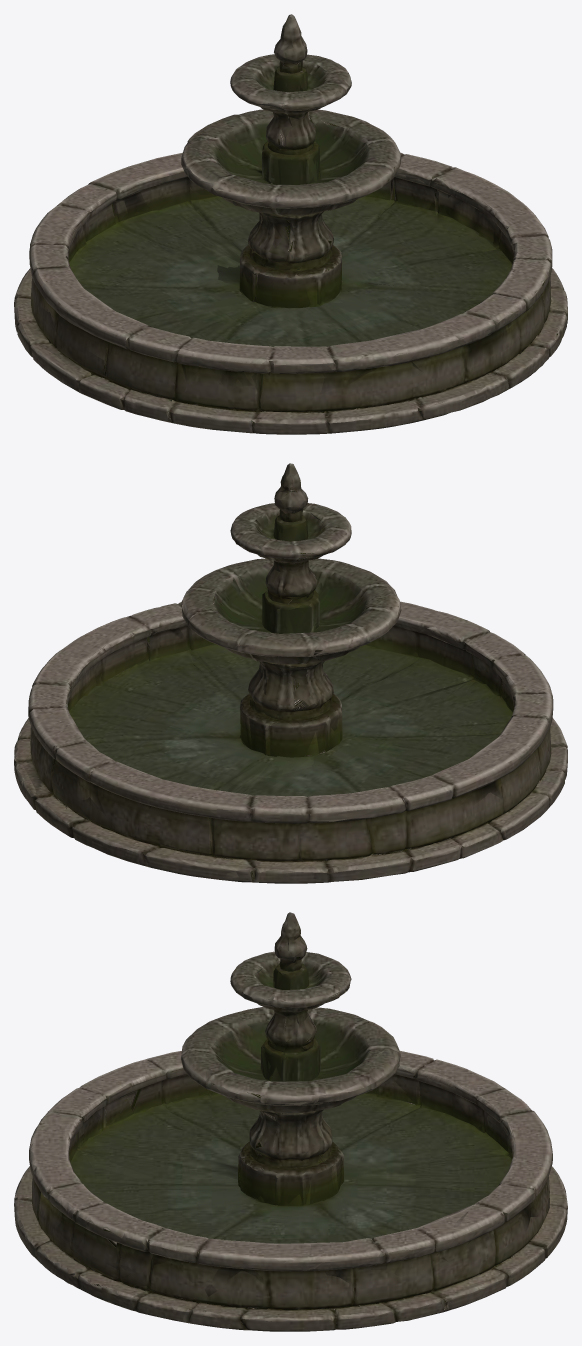
The model's file is town_fountain.glb.
3 renders of one model, top to bottom at view 1: azimuth 30°, elevation 25°; view 2: azimuth 150°, elevation 25°; view 3: azimuth 270°, elevation 25°, orthographic.
Visible parts, largest first — view 1: mesh_node, mesh_node_lod; view 2: mesh_node, mesh_node_lod; view 3: mesh_node, mesh_node_lod.
Part boxes in pixels (x1=…): mesh_node: x1=14, y1=14, x2=567, y2=434; mesh_node_lod: x1=14, y1=19, x2=567, y2=434; mesh_node: x1=14, y1=463, x2=567, y2=883; mesh_node_lod: x1=14, y1=467, x2=567, y2=883; mesh_node: x1=14, y1=912, x2=567, y2=1331; mesh_node_lod: x1=14, y1=917, x2=567, y2=1331.
Bounding box in the file's own units: 3.3 × 2 × 3.31.
1 material, 1 textured.
